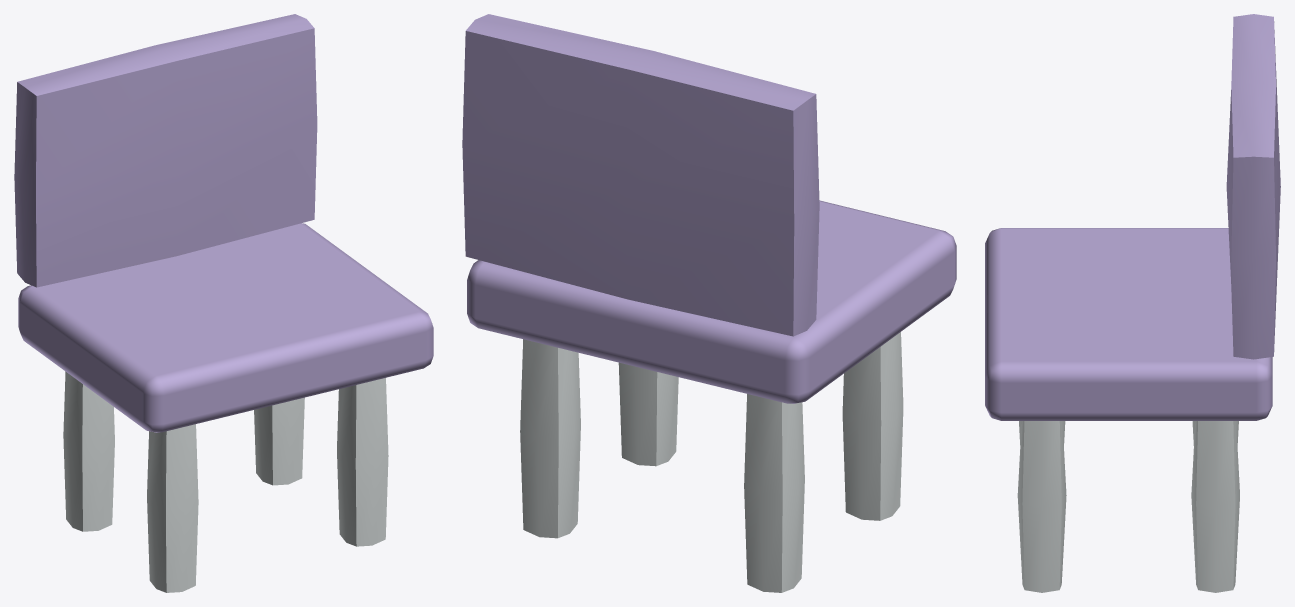
File: meeting-chair-lavender.glb
3 views of the same model, side by side, from view 1: azimuth 30°, elevation 25°; view 2: azimuth 150°, elevation 25°; view 3: azimuth 270°, elevation 25° (orthographic). The views are drawn at different scales.
Visible parts, largest first — view 1: part (×6); view 2: part (×6); view 3: part (×4).
Boxes of the visible parts, x1,y1,x2,y2 form: part (×6): (14,14,433,592); part (×6): (462,14,956,592); part (×4): (985,14,1280,592).
Bounding box in the file's own units: 0.64 × 0.935 × 0.545.
Materials: 1 (1 with a texture image).
